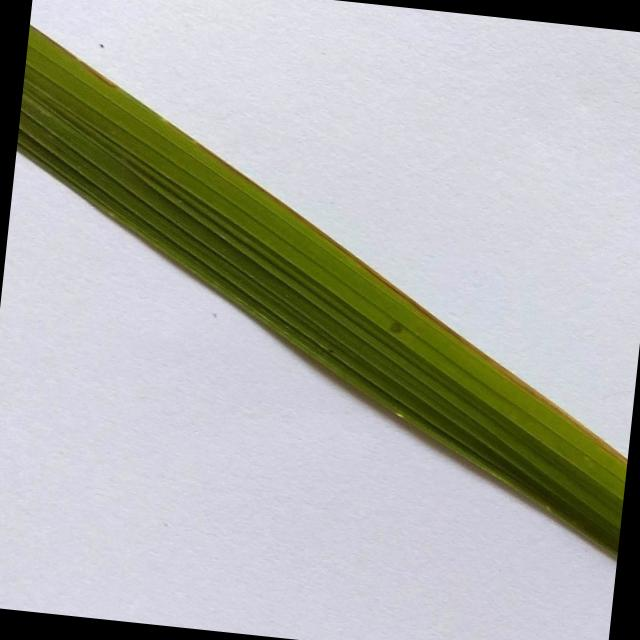Rice_Healthy: (17, 26, 627, 554)
